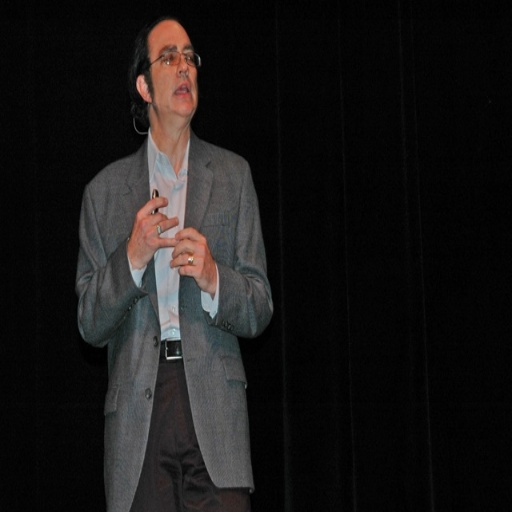hand: (126, 196, 182, 269), (163, 225, 214, 289)
